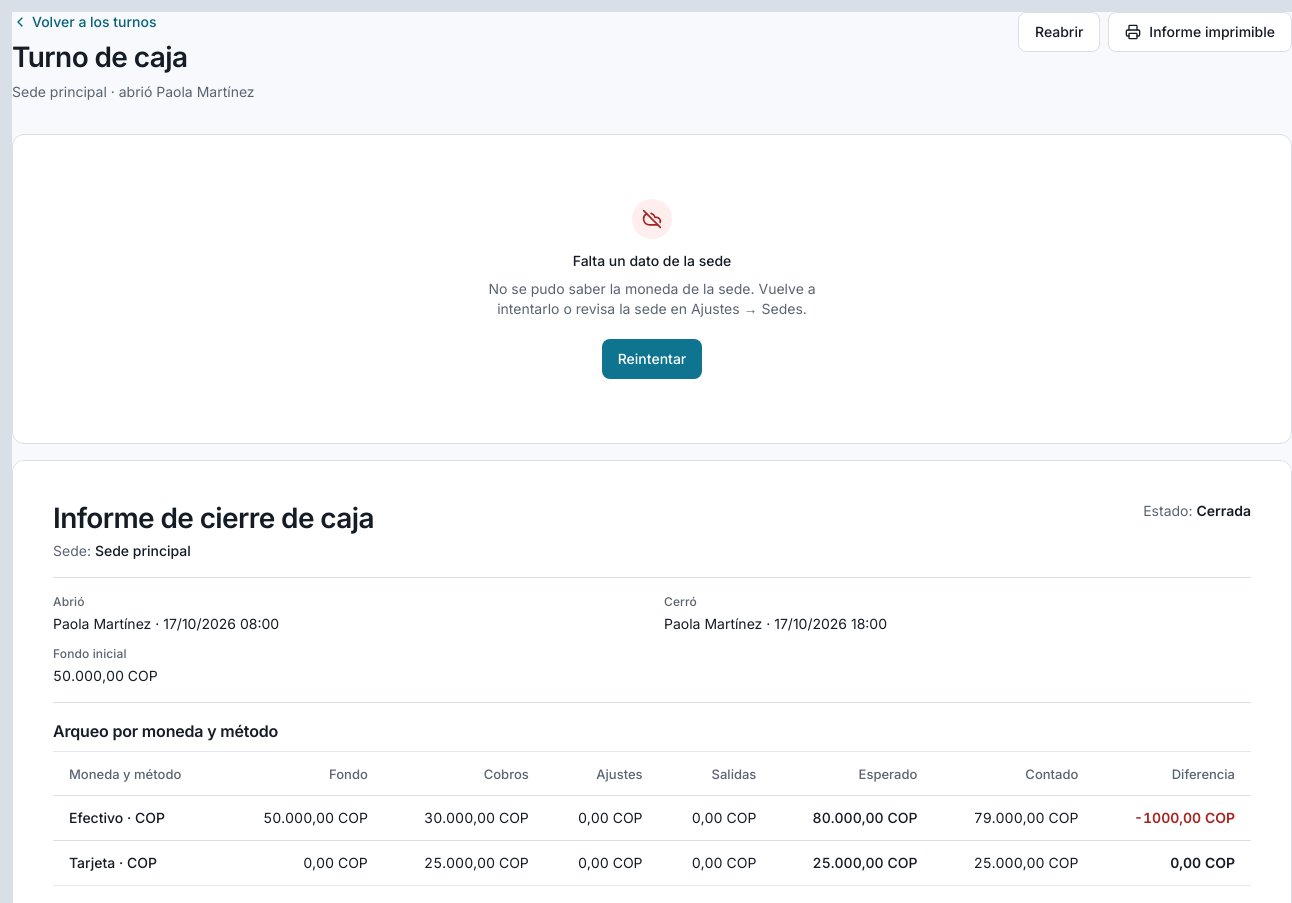
Test: CashSessionDetailView: moneda de la sede (GLOBAL-G1) › location without currency shows SedeConfigError and never COP
The width and height of the screenshot is (1292, 903).
Expected: the heading "Turno de caja" is shown, [12, 40, 187, 74]
Expected: the text "No se pudo saber la moneda de la sede. Vuelve a intentarlo o revisa la sede en Ajustes → Sedes." is shown, [488, 280, 816, 317]
Click the button "Reintentar": (652, 359) [602, 339, 702, 379]
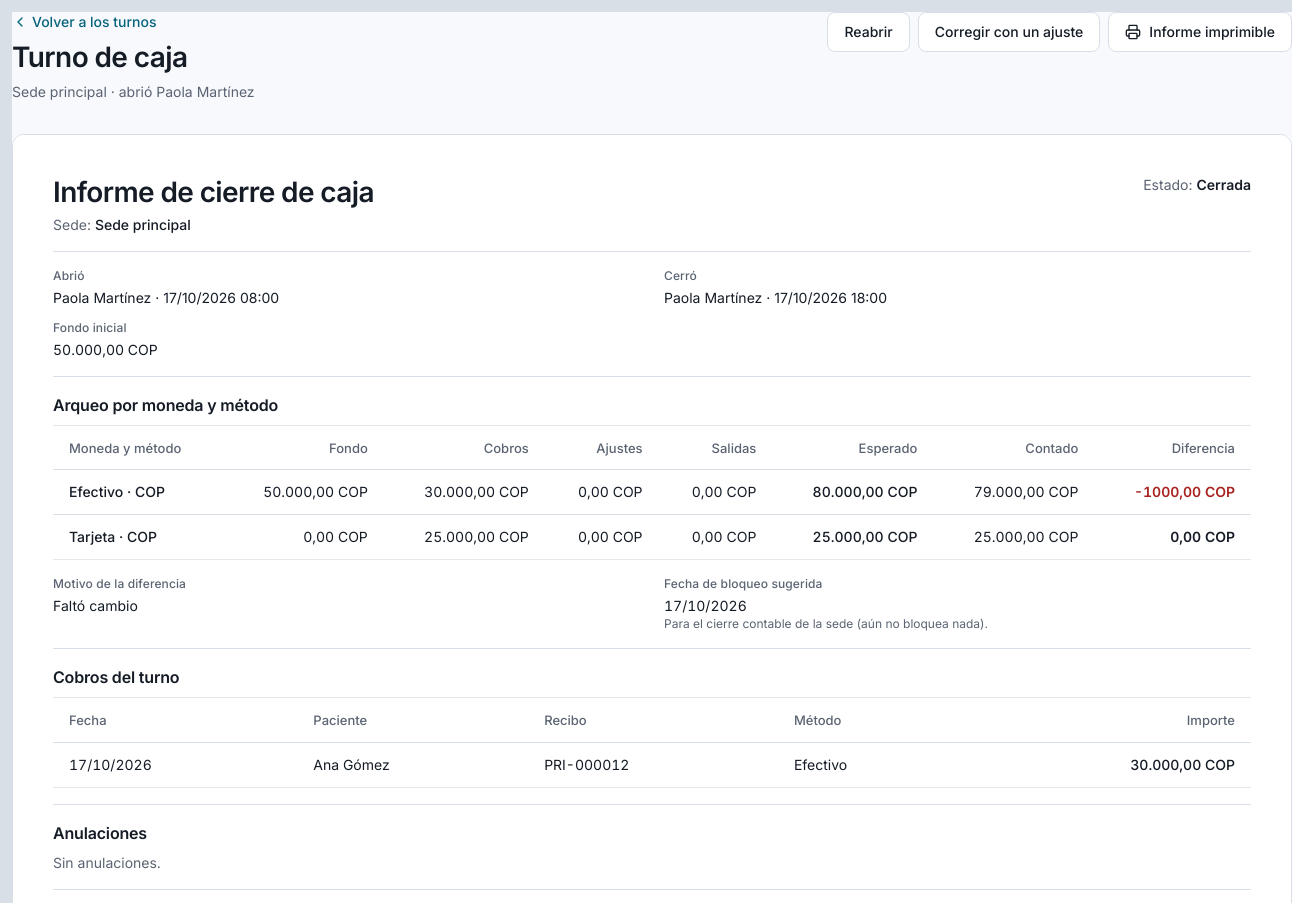
Expected: the button "Corregir con un ajuste" is shown, [918, 12, 1100, 52]
